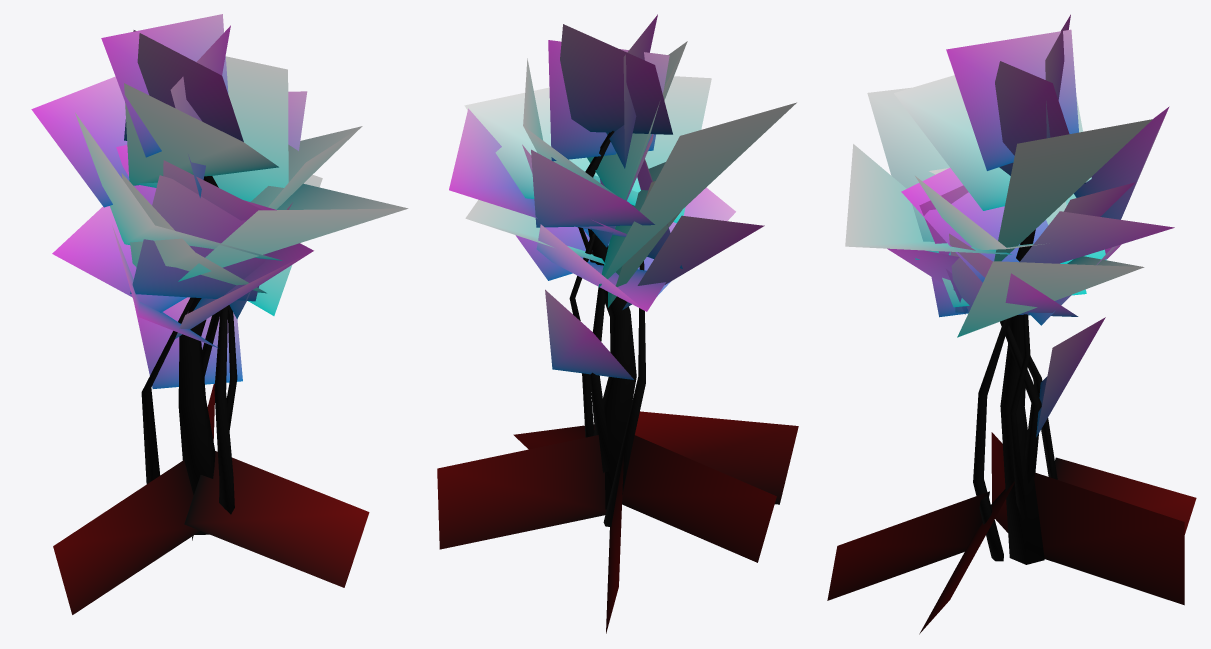
Rendered from swamp_mangrove_c_128.fbx.
The picture shows the model from 3 angles, left to right: view 1: azimuth 30°, elevation 25°; view 2: azimuth 150°, elevation 25°; view 3: azimuth 270°, elevation 25°; orthographic projection. The views are drawn at different scales.
Parts seen in each view (by area): view 1: leavesmc128, treemc128; view 2: leavesmc128, treemc128; view 3: leavesmc128, treemc128.
Part boxes in pixels (x1,y1,x2,y2): leavesmc128: [31, 14, 408, 614]; treemc128: [141, 176, 237, 534]; leavesmc128: [437, 14, 798, 633]; treemc128: [569, 131, 645, 526]; leavesmc128: [827, 14, 1196, 634]; treemc128: [973, 229, 1057, 564].
Size of what is drawn, in the model's own units: 3.51 by 5.96 by 3.51.
